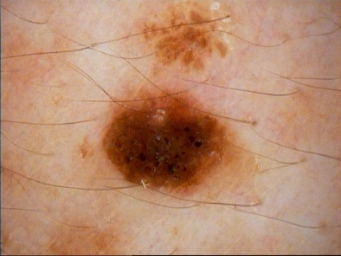nevus: (102, 102, 211, 189)
